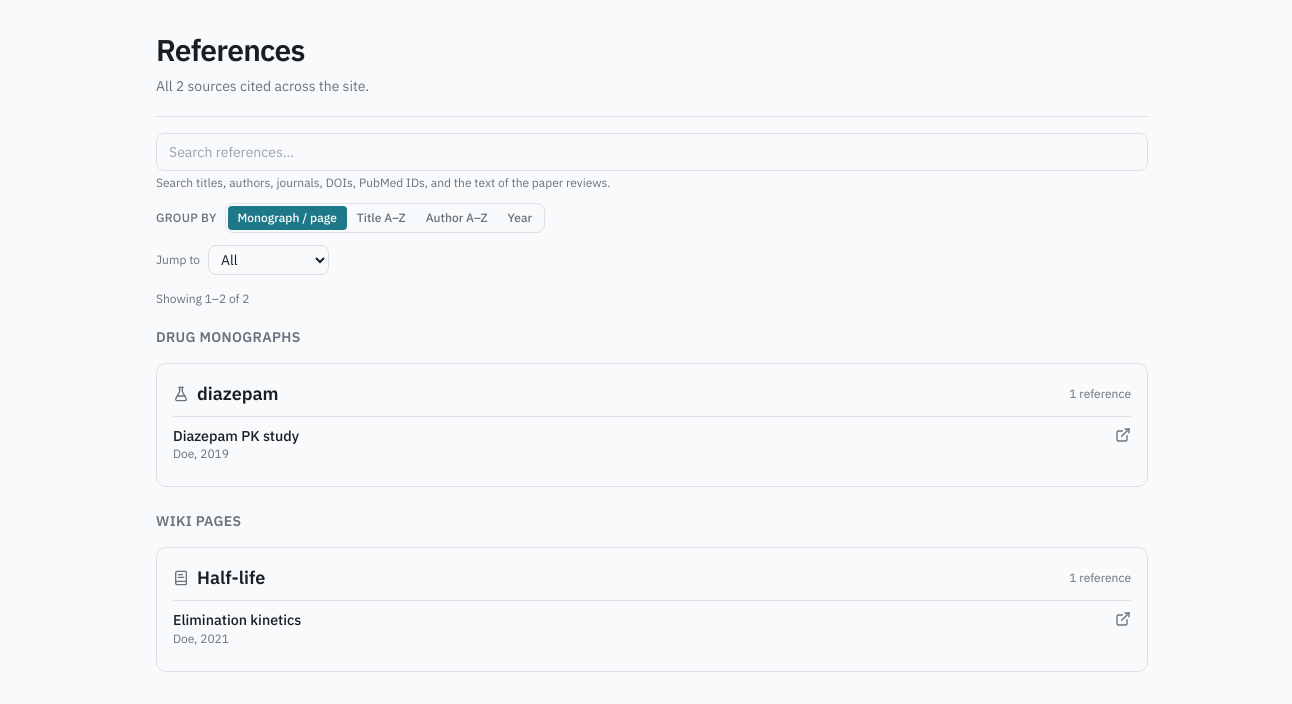
it: ReferencesPage › switches to the author axis and names the authorless bucket
Check: the heading "Drug monographs" is shown, box left=156, top=328, right=301, bottom=346
Click the button "Author A–Z" at (457, 218), box left=416, top=206, right=498, bottom=230
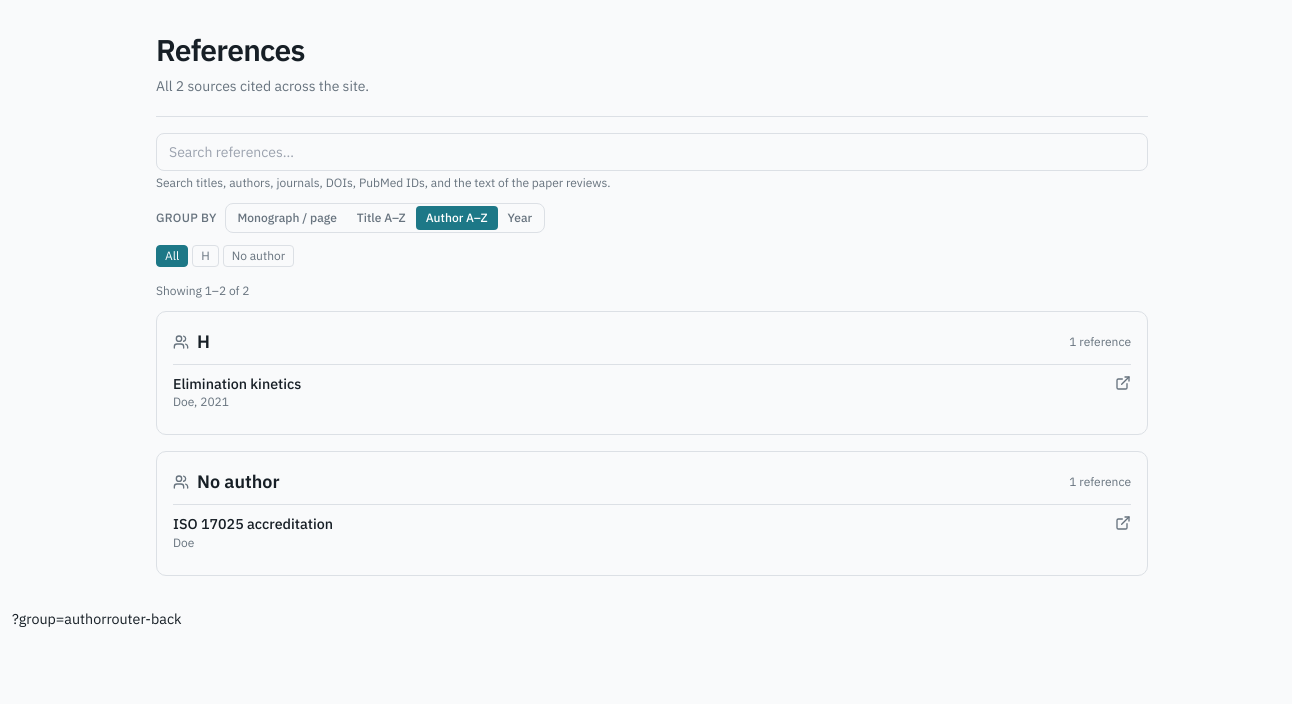
Check: the button "No author" is shown, box left=223, top=245, right=294, bottom=267
Check: the button "H" is shown, box left=192, top=245, right=219, bottom=267
Check: the link "ISO 17025 accreditation" is shown, box left=173, top=514, right=333, bottom=533
